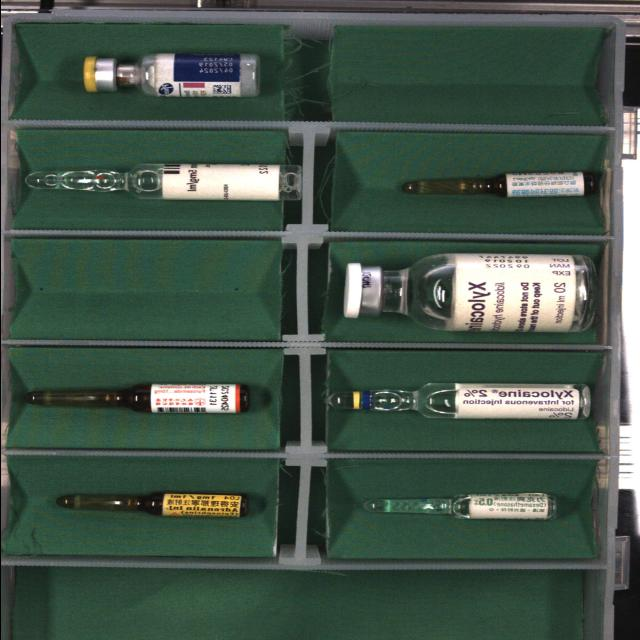Vials: (343, 254, 595, 332), (82, 53, 259, 97)
